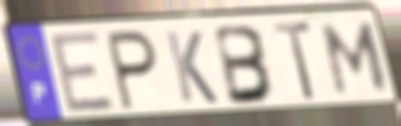B: (212, 23, 278, 108)
E: (46, 29, 119, 119)
K: (162, 29, 221, 106)
M: (320, 20, 391, 99)
P: (103, 28, 160, 114)
T: (271, 19, 319, 104)
